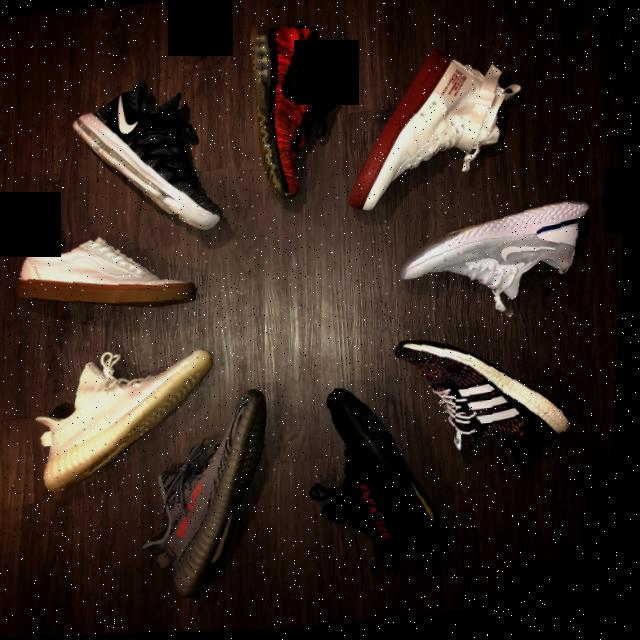shoe: (287, 376, 472, 603), (125, 383, 295, 623), (383, 318, 594, 509), (335, 39, 545, 226), (13, 338, 231, 506), (57, 69, 242, 256), (396, 202, 612, 334), (233, 9, 364, 212), (1, 213, 212, 331)
